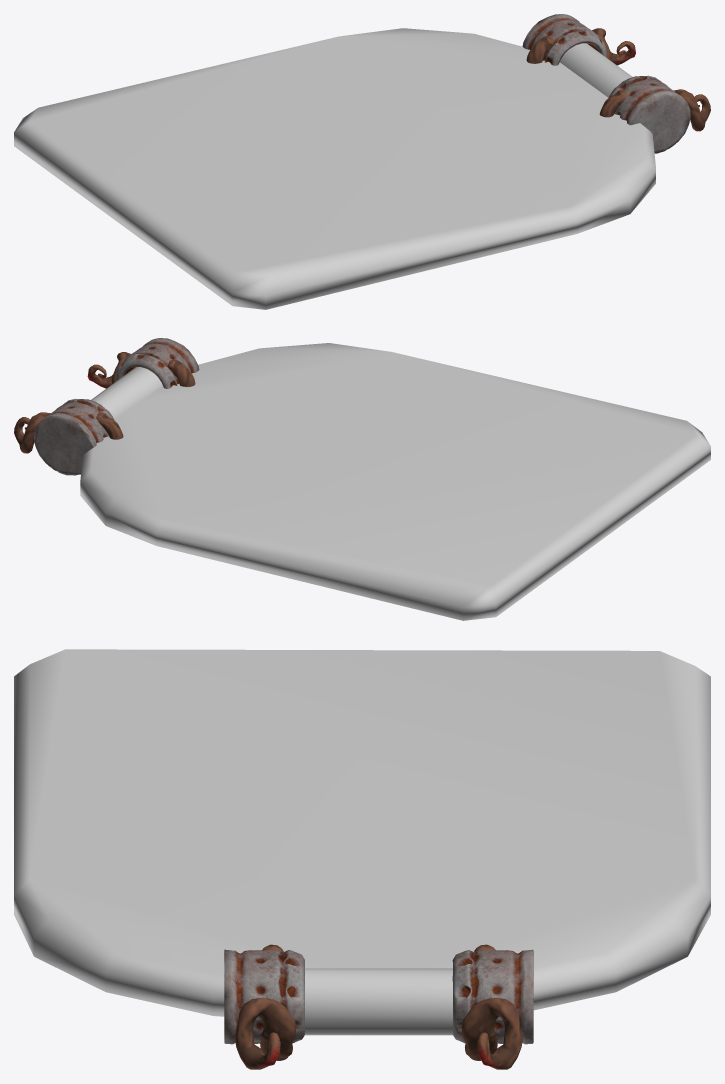
The model's file is zapadnia.fbx.
3 views of the same model, one above another, from view 1: azimuth 30°, elevation 25°; view 2: azimuth 150°, elevation 25°; view 3: azimuth 270°, elevation 25° (orthographic). The views are drawn at different scales.
Visible parts, largest first — view 1: Cube.042, Cylinder_002.001; view 2: Cube.042, Cylinder_002.001; view 3: Cube.042, Cylinder_002.001.
Boxes of the visible parts, box(x1,y1,x2,y2) form: Cube.042: box(14, 28, 655, 309); Cylinder_002.001: box(522, 14, 710, 153); Cube.042: box(80, 343, 710, 620); Cylinder_002.001: box(14, 338, 199, 475); Cube.042: box(14, 649, 710, 1035); Cylinder_002.001: box(224, 944, 533, 1069).
Bounding box in the file's own units: 388 × 48.53 × 294.
